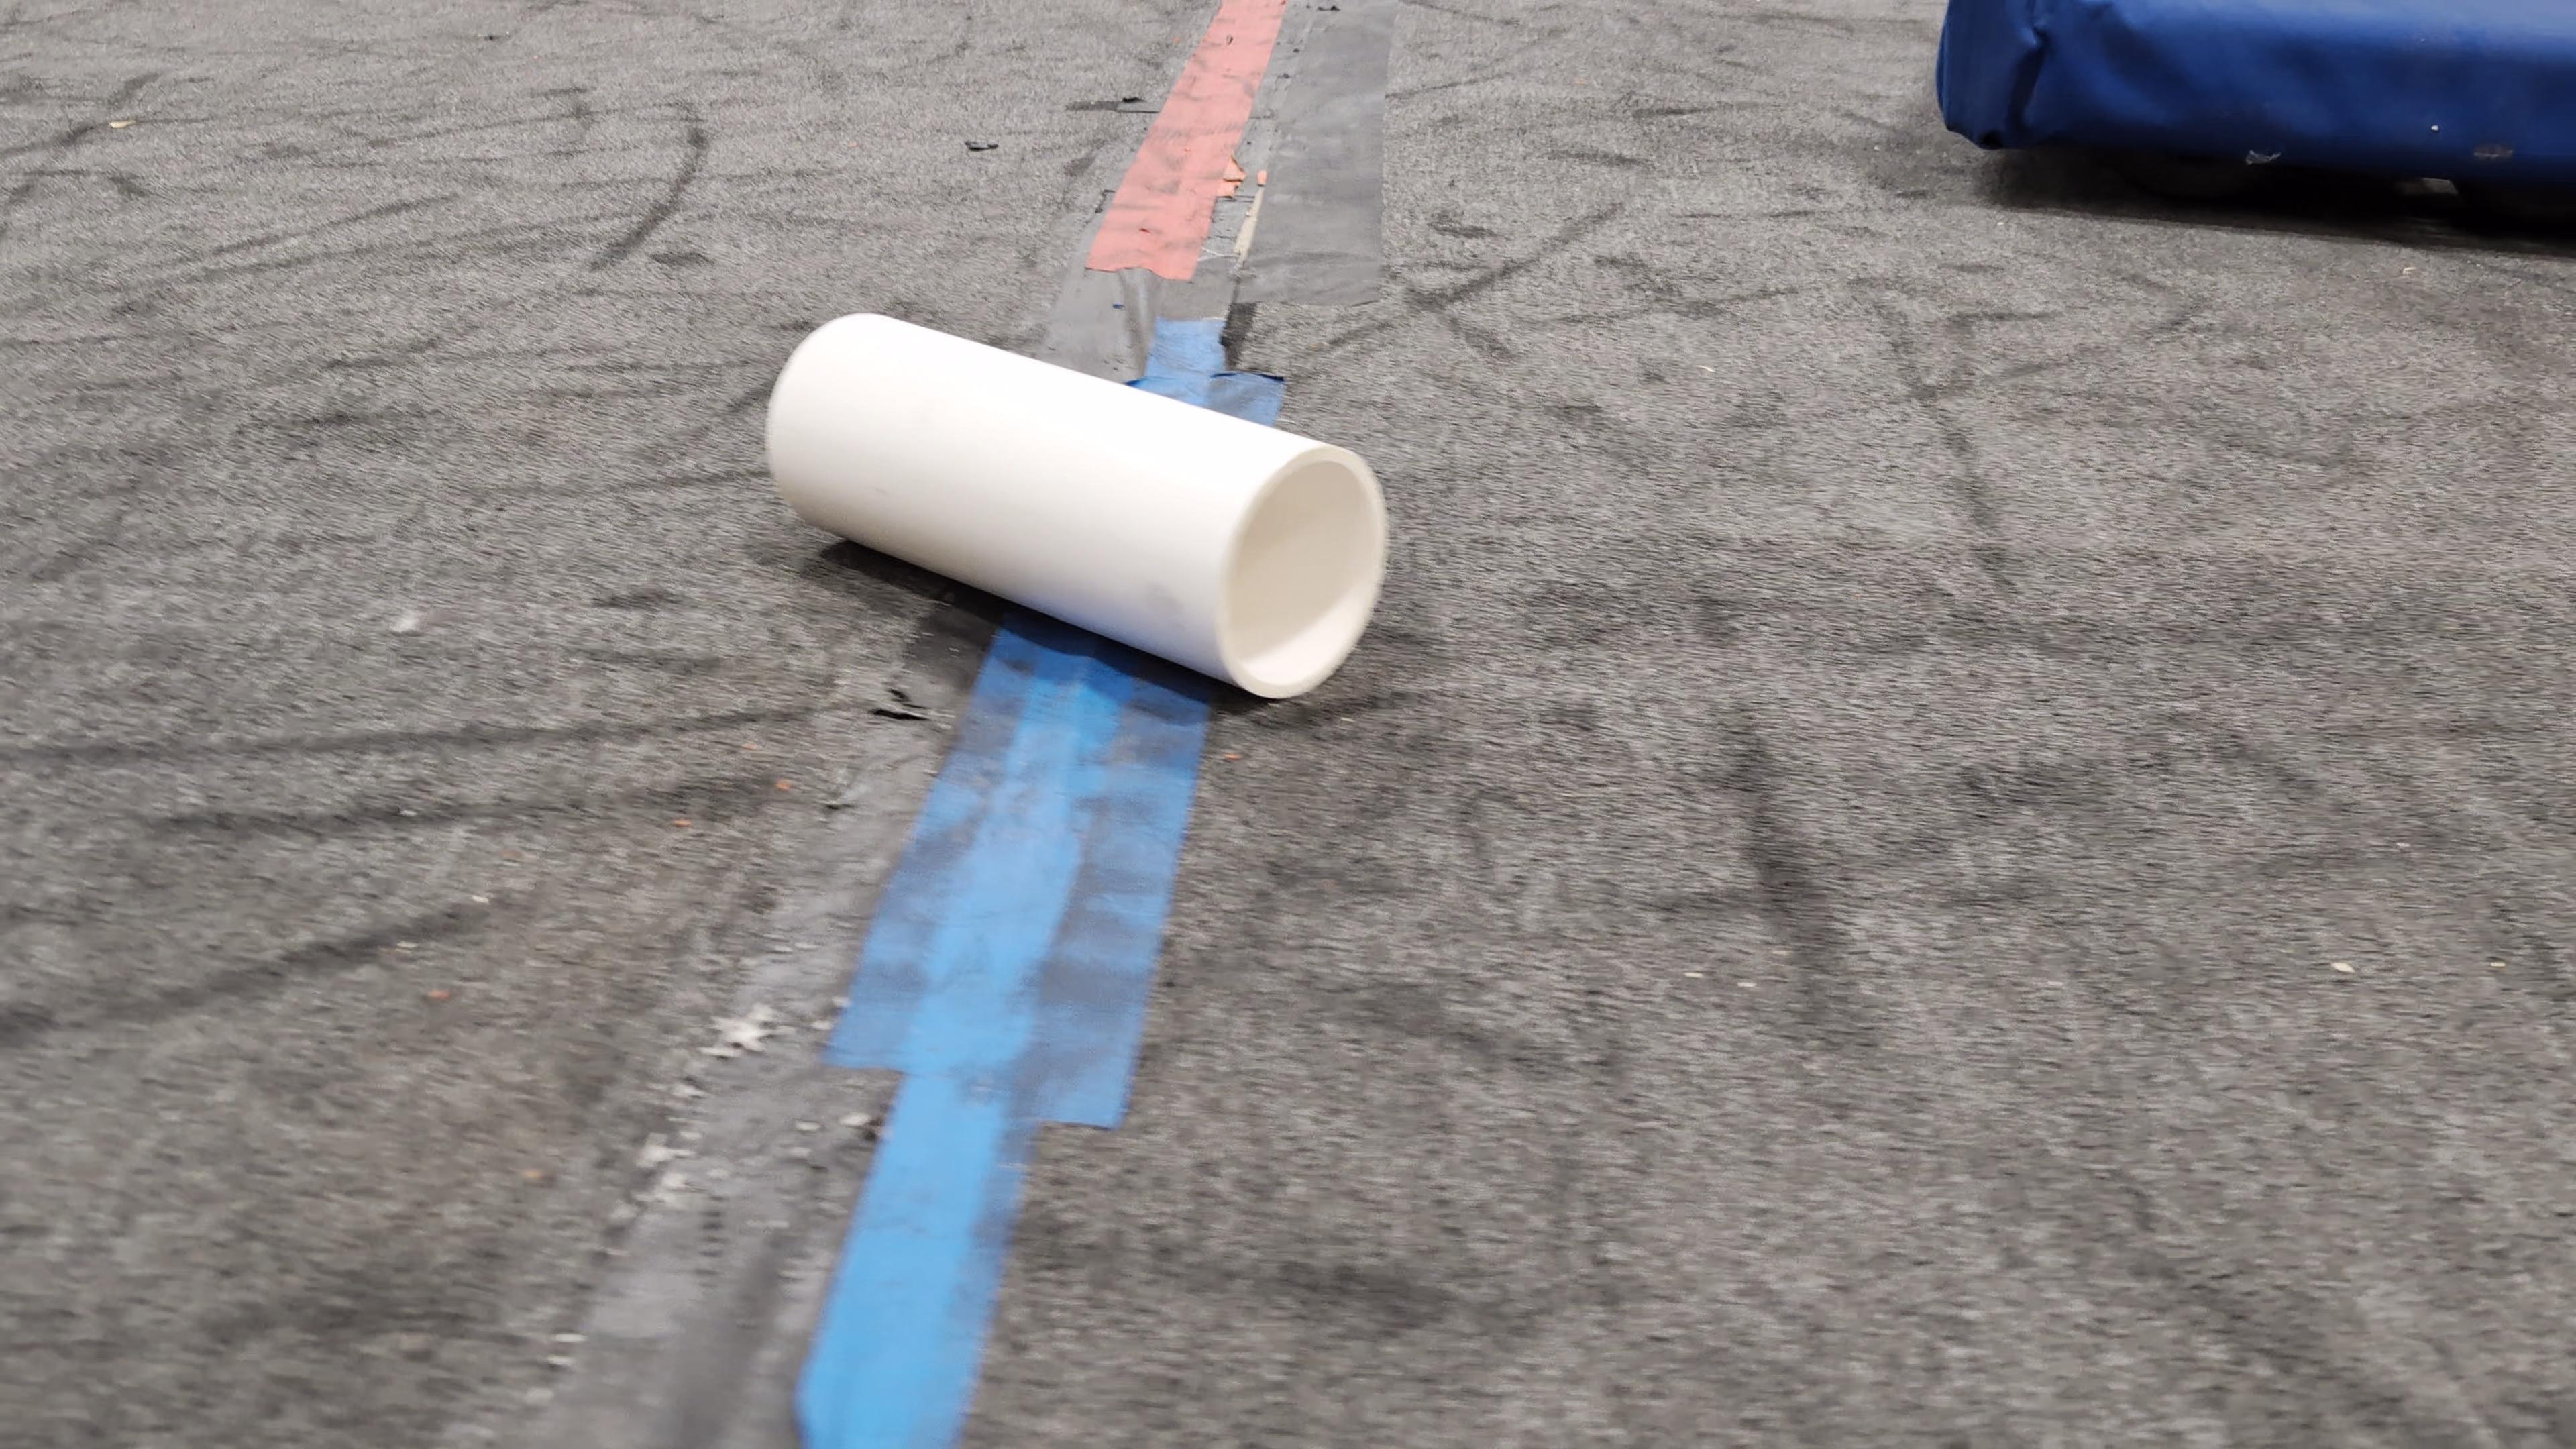coral: (764, 306, 1392, 702)
